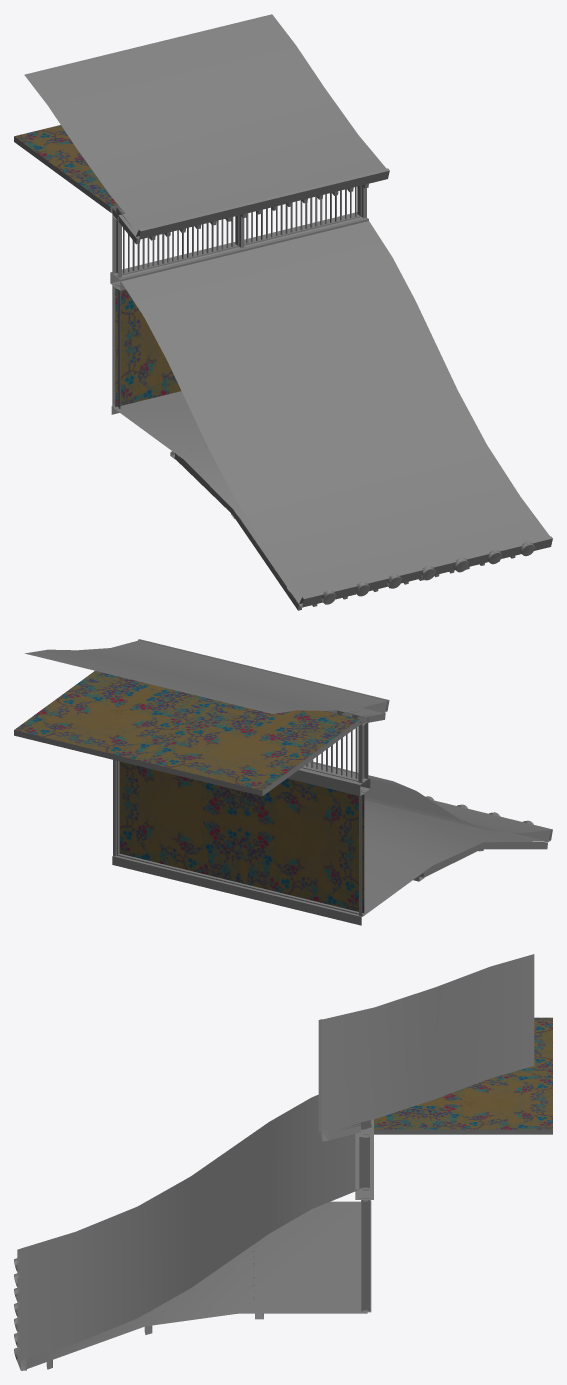
File: Attic_Sides.fbx
3 views of the same model, one above another, from view 1: azimuth 30°, elevation 25°; view 2: azimuth 150°, elevation 25°; view 3: azimuth 270°, elevation 25° (orthographic). The views are drawn at different scales.
Visible parts, largest first — view 1: Attic_Sides; view 2: Attic_Sides; view 3: Attic_Sides.
Boxes of the visible parts, <box> form: Attic_Sides: <box>14,14,552,610</box>; Attic_Sides: <box>14,639,552,925</box>; Attic_Sides: <box>14,954,552,1370</box>.
Size of the model in its own units: 506 by 646 by 1018.
